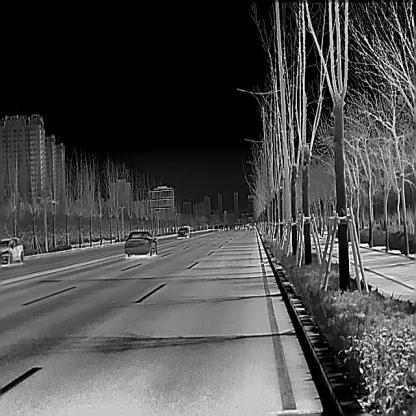car: (124, 231, 157, 256), (0, 236, 23, 264), (177, 227, 189, 239)
